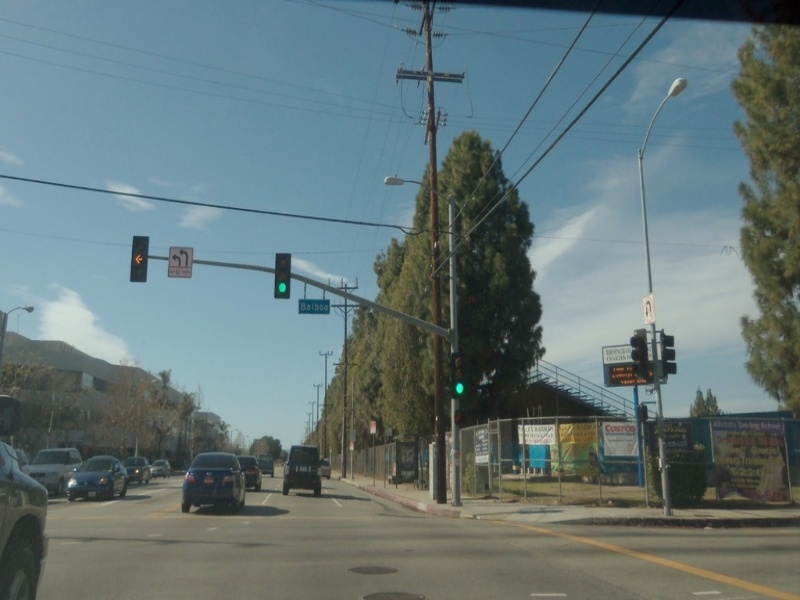green_light: (272, 277, 292, 299)
